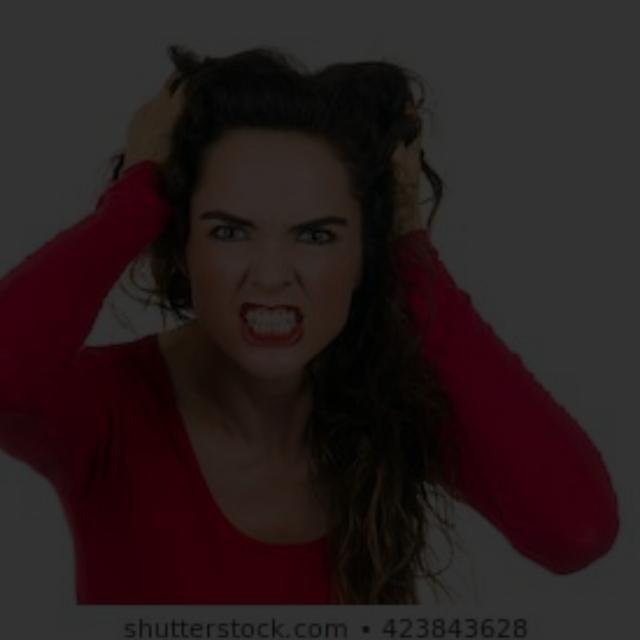angry: (155, 107, 401, 399)
